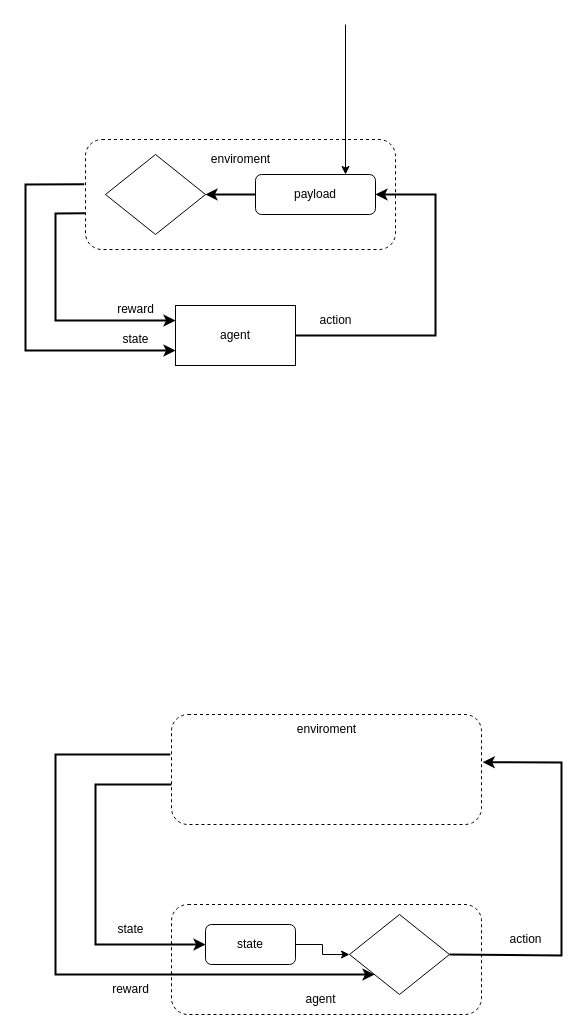
Some shapes in this 587 by 1032 pixel diagram are drawn without their labels. The centre of each missing label's shape, as x and y in pixels:
"detect attack" belongs at (x=155, y=194).
"Q_tabel" belongs at (x=399, y=954).
